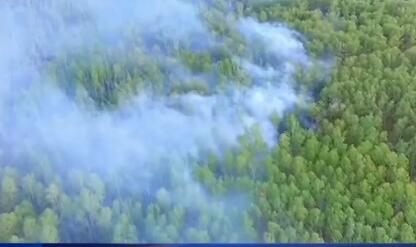yanwu: (0, 1, 319, 241)
